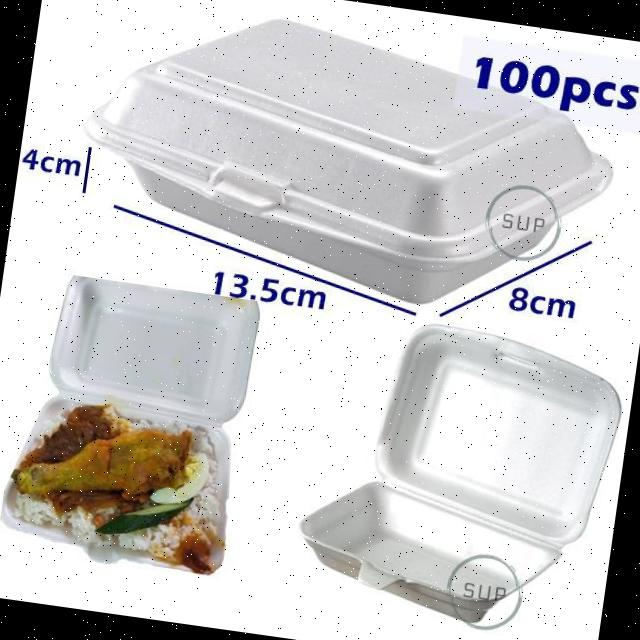styrofoam: (65, 0, 628, 329), (288, 306, 631, 640), (0, 267, 262, 578)
